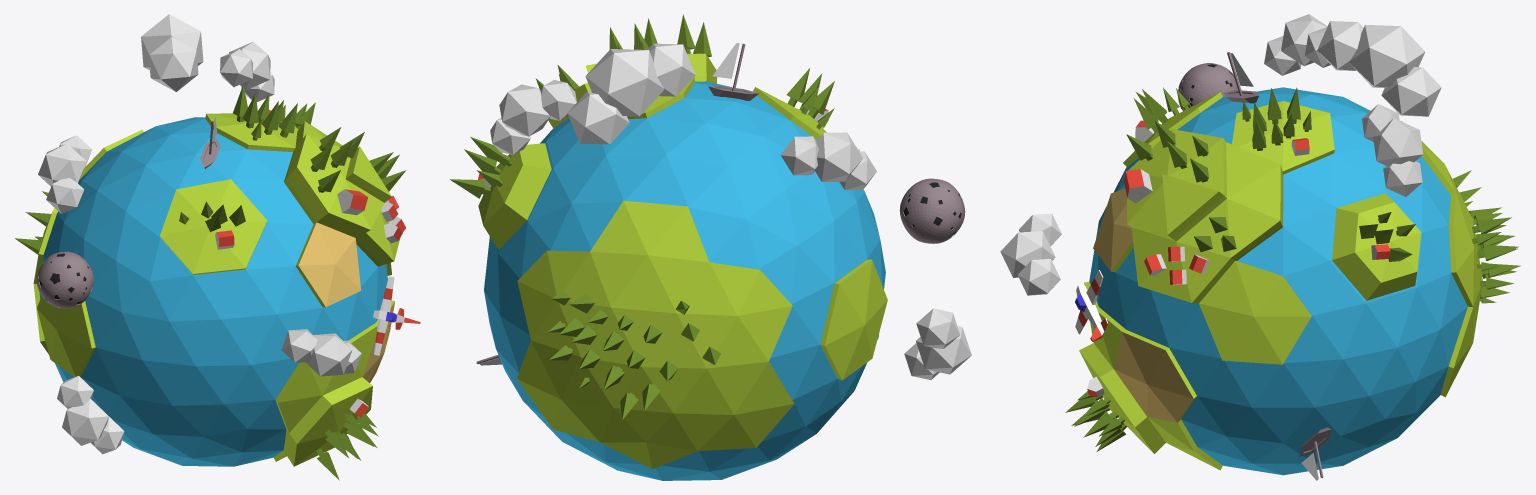
Rendered from earth.glb.
3 renders of one model, left to right at view 1: azimuth 30°, elevation 25°; view 2: azimuth 150°, elevation 25°; view 3: azimuth 270°, elevation 25°, orthographic. The views are drawn at different scales.
Visible parts, largest first — view 1: Icosphere.001, Icosphere, Icosphere.006, Icosphere.005, Icosphere.002, Icosphere.003, Icosphere.008, Icosphere.004, Plane.066, Plane.055, Plane.064; view 2: Icosphere, Icosphere.001, Icosphere.006, Icosphere.004, Icosphere.002, Icosphere.008, Icosphere.005, Plane.064; view 3: Icosphere.001, Icosphere, Icosphere.006, Icosphere.004, Icosphere.003, Icosphere.002, Icosphere.008, Plane.066, Plane.065, Plane.064, Plane.055.
Part boxes in pixels (<box>): Icosphere.001: <box>39,117,387,466</box>; Icosphere: <box>33,113,400,466</box>; Icosphere.006: <box>141,14,203,91</box>; Icosphere.005: <box>57,375,124,454</box>; Icosphere.002: <box>38,135,91,213</box>; Icosphere.003: <box>281,329,361,376</box>; Icosphere.008: <box>36,251,93,308</box>; Icosphere.004: <box>220,41,274,101</box>; Plane.066: <box>373,276,420,355</box>; Plane.055: <box>337,189,367,215</box>; Plane.064: <box>200,118,220,168</box>; Icosphere: <box>478,53,887,469</box>; Icosphere.001: <box>484,81,885,480</box>; Icosphere.006: <box>567,43,695,144</box>; Icosphere.004: <box>490,80,576,154</box>; Icosphere.002: <box>780,132,876,189</box>; Icosphere.008: <box>899,178,965,243</box>; Icosphere.005: <box>904,308,971,379</box>; Plane.064: <box>708,43,758,100</box>; Icosphere.001: <box>1089,87,1467,475</box>; Icosphere: <box>1079,92,1482,470</box>; Icosphere.006: <box>1317,21,1441,116</box>; Icosphere.004: <box>1362,104,1423,196</box>; Icosphere.003: <box>1000,213,1061,295</box>; Icosphere.002: <box>1264,14,1330,75</box>; Icosphere.008: <box>1178,63,1237,110</box>; Plane.066: <box>1075,270,1107,341</box>; Plane.065: <box>1299,427,1331,480</box>; Plane.064: <box>1223,52,1258,103</box>; Plane.055: <box>1123,169,1152,203</box>.
Bounding box in the file's own units: 2.47 × 2.51 × 2.73.
